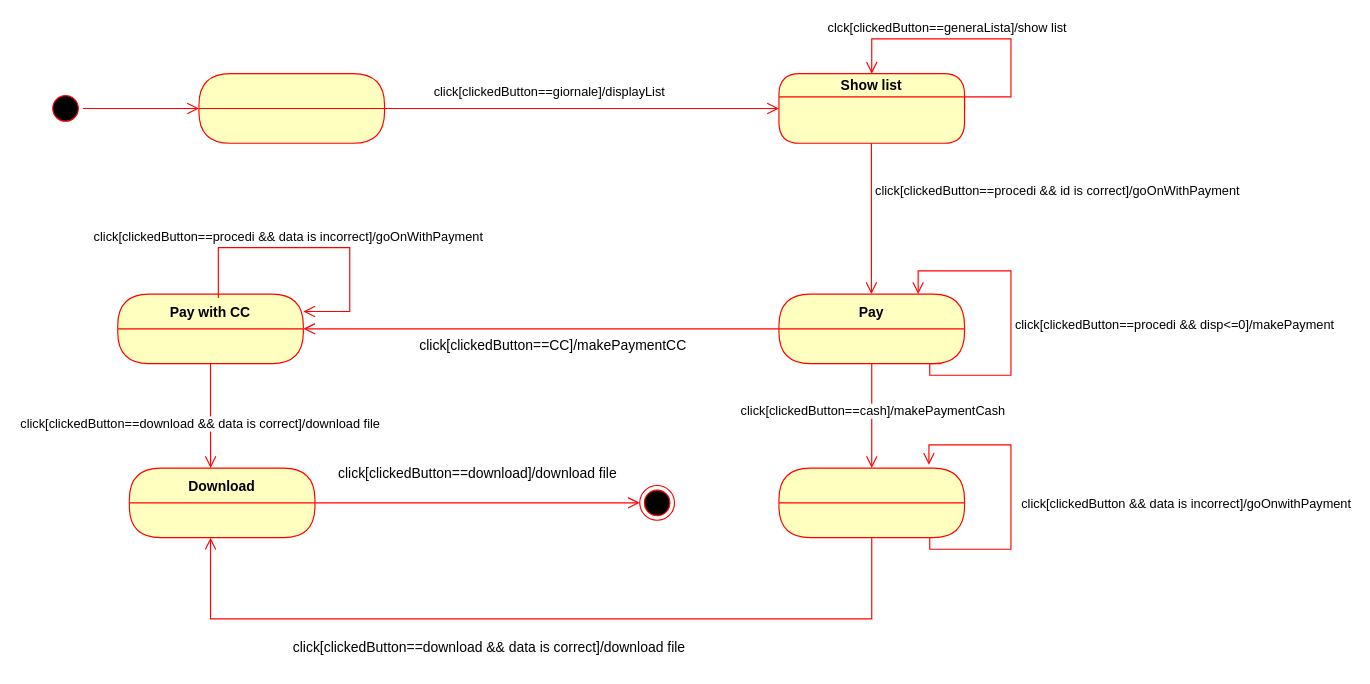
Some shapes in this 1370 by 684 pixel diagram are drawn without their labels. Each missing label, with the centre of its shape:
"Main menu" belongs at point 291,107.
"Pay with cash" belongs at point 871,502.
